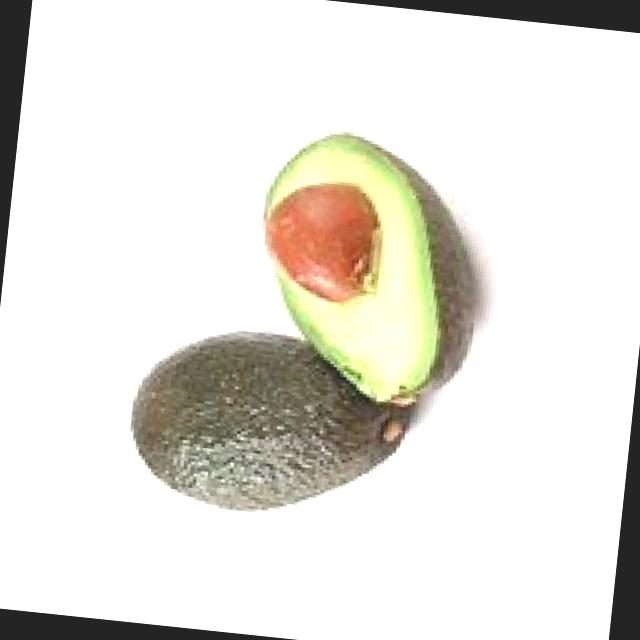avocado: (235, 124, 500, 417), (115, 318, 421, 536)
